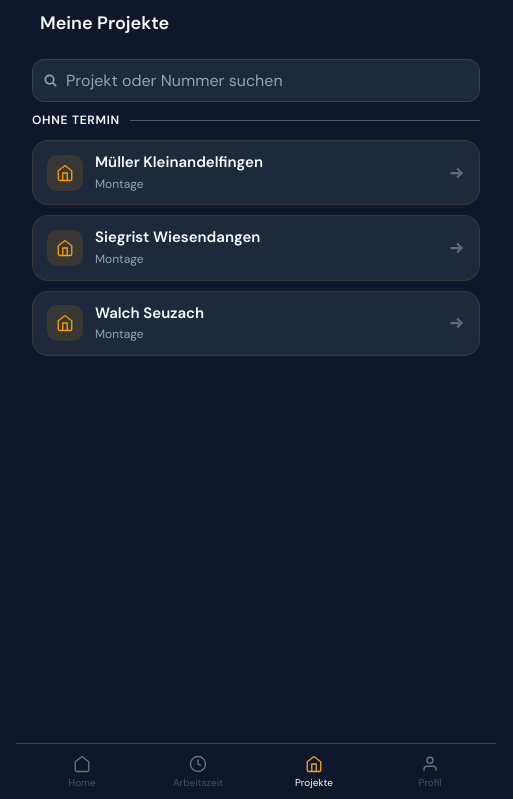
Test: ProjekteScreen — Suche über Name und Nummer › filtert die Kacheln nach der Projektnummer
Check: the text "Müller Kleinandelfingen" is shown, box [95, 152, 263, 172]
Type "2612" into the search field labelled "Projekt oder Nummer suchen" at x=268, y=80, box [66, 60, 469, 101]
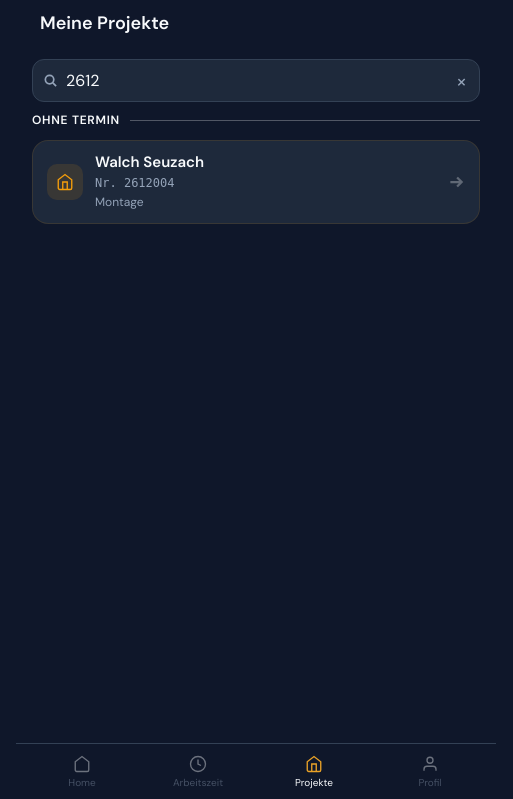
Check: the text "Walch Seuzach" is shown, box [95, 152, 204, 172]
Check: the text "Siegrist Wiesendangen" is gone
